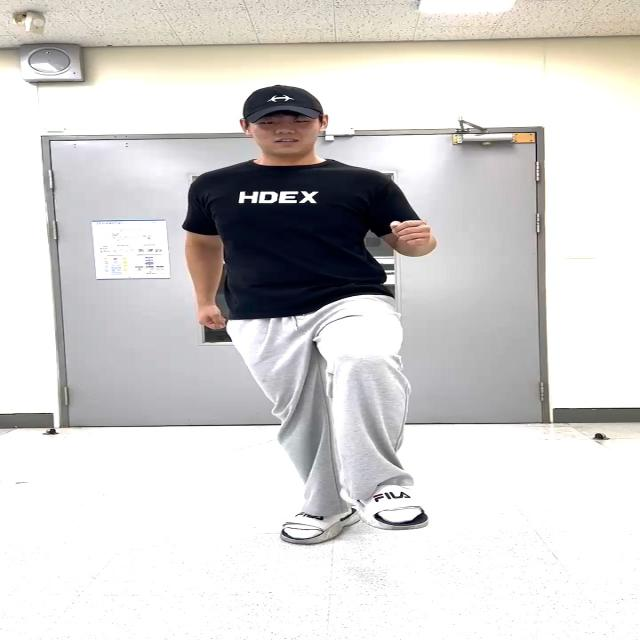leg: (290, 284, 480, 543)
